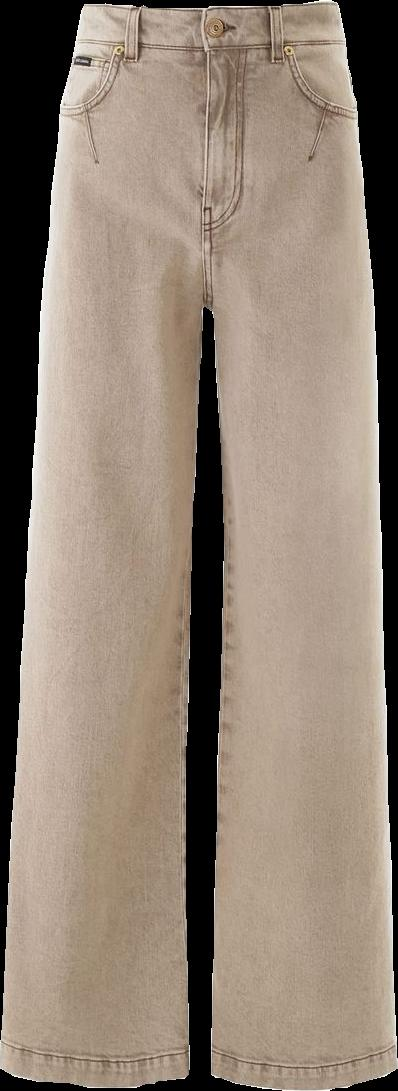Hemline: (0, 1059, 190, 1089), (207, 1061, 397, 1090)
Pantleg: (0, 4, 208, 1088), (204, 2, 397, 1089)
Waistline: (70, 33, 346, 54), (80, 0, 337, 19)
